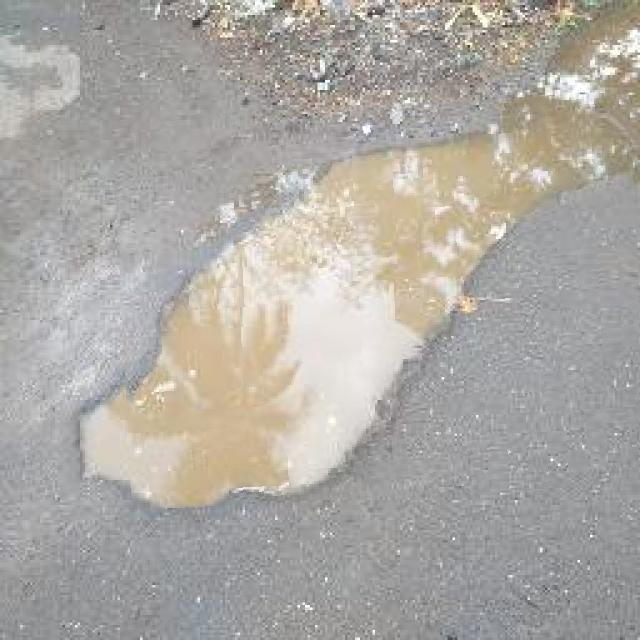puddle: (118, 99, 640, 504)
